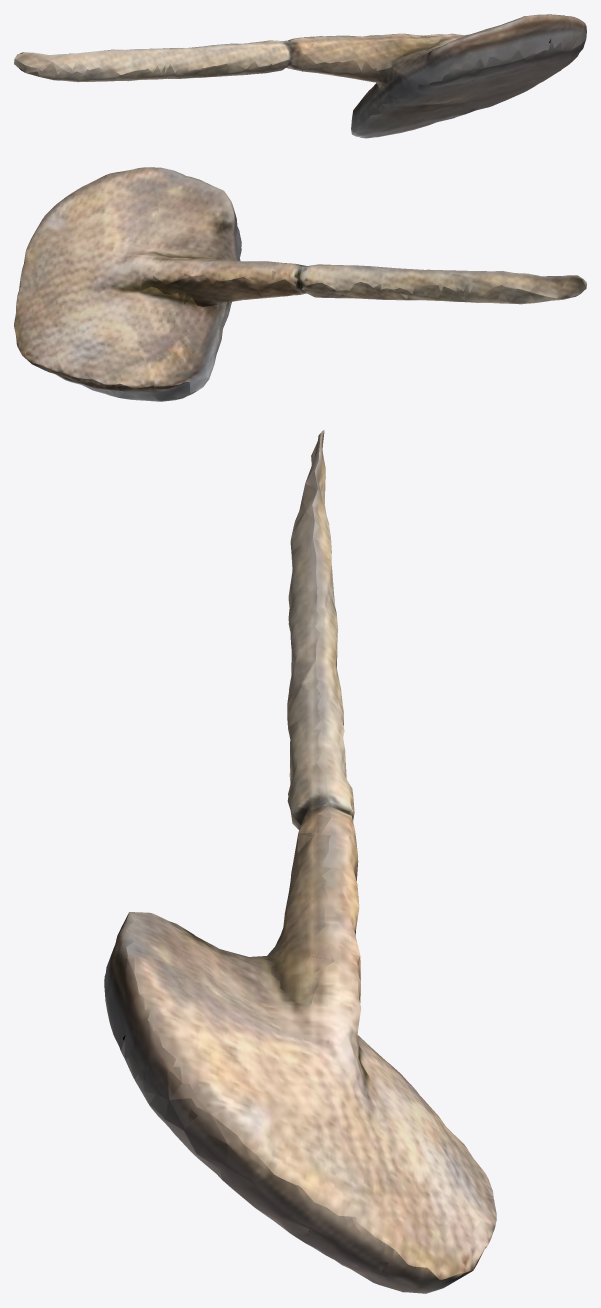
The model's file is shovel.glb.
3 renders of one model, top to bottom at view 1: azimuth 30°, elevation 25°; view 2: azimuth 150°, elevation 25°; view 3: azimuth 270°, elevation 25°, orthographic. The views are drawn at different scales.
Parts seen in each view (by area): view 1: world; view 2: world; view 3: world.
Boxes of the visible parts, x1,y1,x2,y2 form: world: [14, 14, 586, 138]; world: [14, 167, 586, 401]; world: [104, 430, 496, 1293].
Size of the model in its own units: 0.9535 by 0.33 by 0.2935.
1 material, 1 textured.
